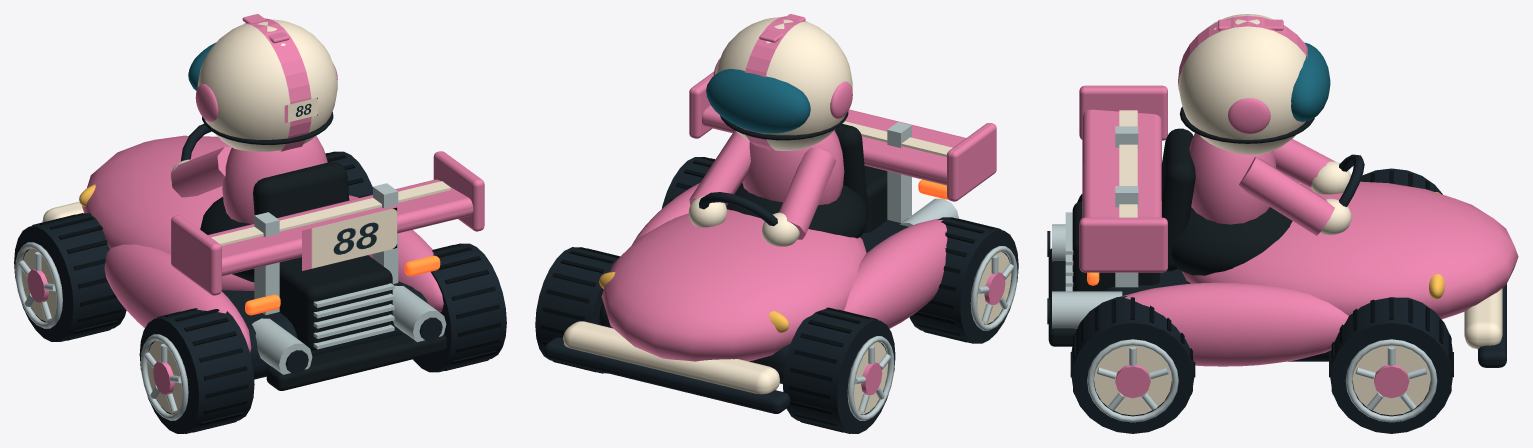
The picture shows the model from 3 angles, left to right: view 1: azimuth 30°, elevation 25°; view 2: azimuth 150°, elevation 25°; view 3: azimuth 270°, elevation 25°; orthographic projection. The views are drawn at different scales.
Parts seen in each view (by area): view 1: Painted racing shell, rubber, Carbon seats and engine recesses, ivory, metal, Tire grooves, Driver racing number, Rear amber lenses; view 2: Painted racing shell, rubber, ivory, Carbon seats and engine recesses, metal, glass, Tire grooves, gold; view 3: Painted racing shell, ivory, rubber, Carbon seats and engine recesses, metal, Tire grooves, glass.
Boxes of the visible parts, x1,y1,x2,y2 form: Painted racing shell: (27, 14, 484, 394); rubber: (14, 124, 506, 433); Carbon seats and engine recesses: (200, 112, 446, 390); ivory: (21, 19, 450, 413); metal: (15, 183, 446, 420); Tire grooves: (32, 151, 500, 433); Driver racing number: (284, 97, 397, 270); Rear amber lenses: (245, 255, 440, 315); Painted racing shell: (601, 14, 1005, 395); rubber: (535, 157, 1018, 433); ivory: (563, 17, 1011, 414); Carbon seats and engine recesses: (720, 111, 907, 238); metal: (847, 122, 1017, 420); glass: (706, 69, 810, 133); Tire grooves: (541, 157, 1001, 433); gold: (599, 272, 789, 332); Painted racing shell: (1079, 15, 1518, 398); ivory: (1094, 14, 1502, 415); rubber: (1047, 154, 1506, 433); Carbon seats and engine recesses: (1048, 107, 1314, 346); metal: (1052, 126, 1437, 422); Tire grooves: (1070, 170, 1453, 394); glass: (1291, 42, 1330, 121).
Size of the model in its own units: 2.51 by 2.43 by 3.08.
10 materials, 1 textured.
